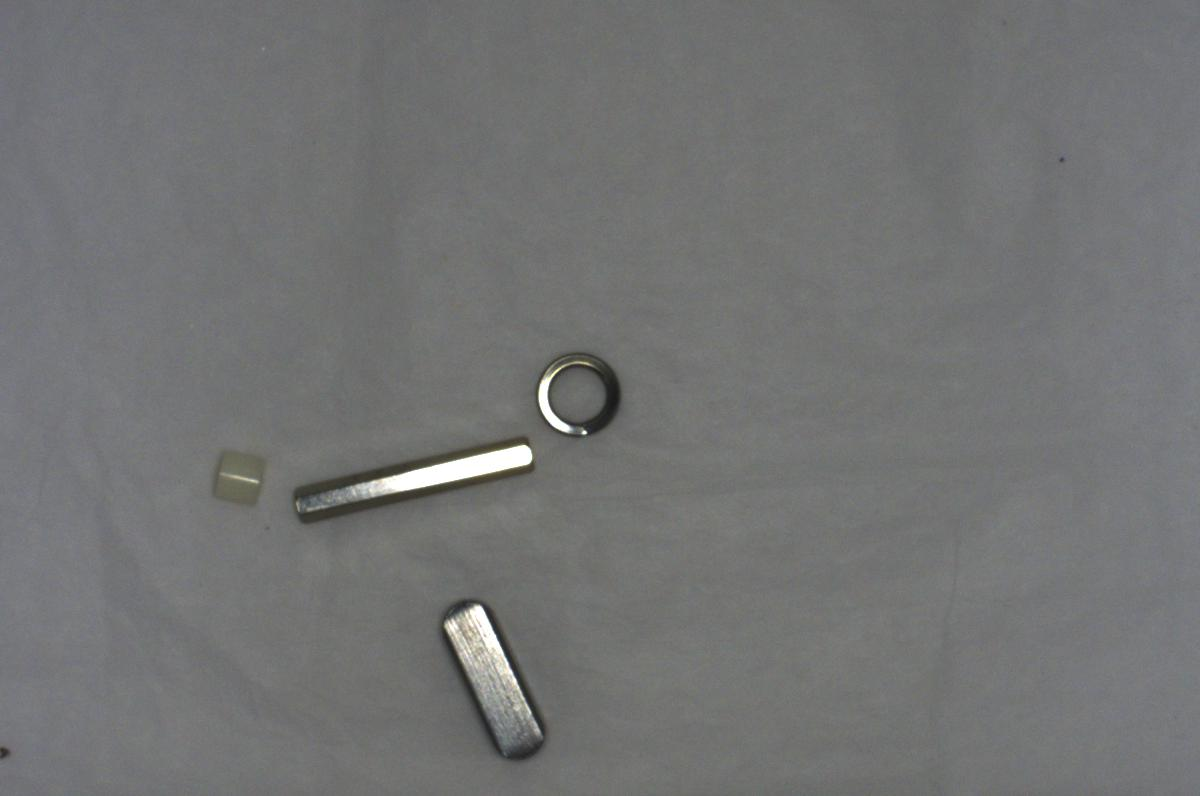Double hexagonal column: (287, 442, 546, 528)
Keybar: (439, 585, 545, 767)
Plastic cushion pillar: (200, 442, 277, 505)
Spring washer: (526, 338, 621, 440)
